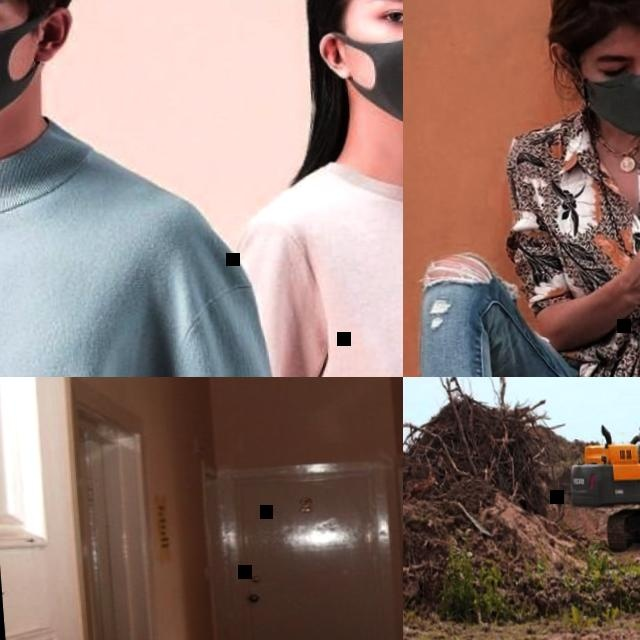Mask: (318, 19, 403, 140), (0, 0, 51, 141), (582, 68, 640, 136)
NO-Hardhat: (548, 0, 640, 49)
NO-Safety Vest: (0, 147, 169, 377), (535, 103, 640, 366), (276, 162, 403, 377)
Person: (0, 0, 290, 377), (403, 0, 640, 377), (202, 0, 403, 377)
machinery: (554, 377, 640, 559)
